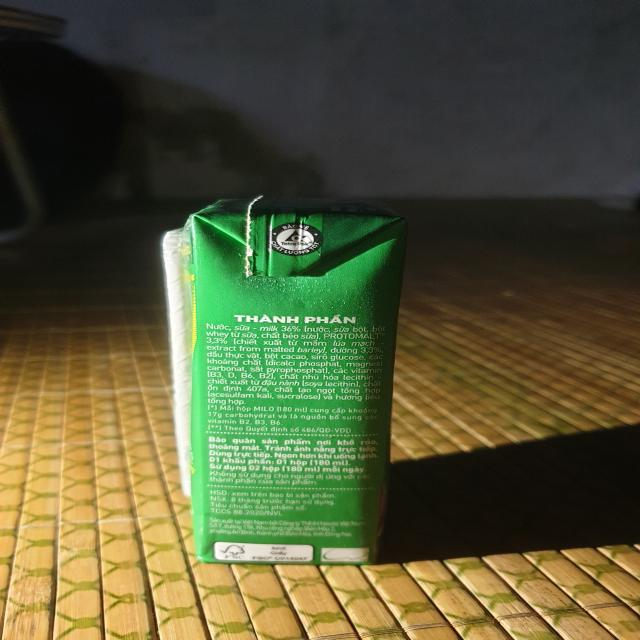Milo: (157, 188, 415, 570)
